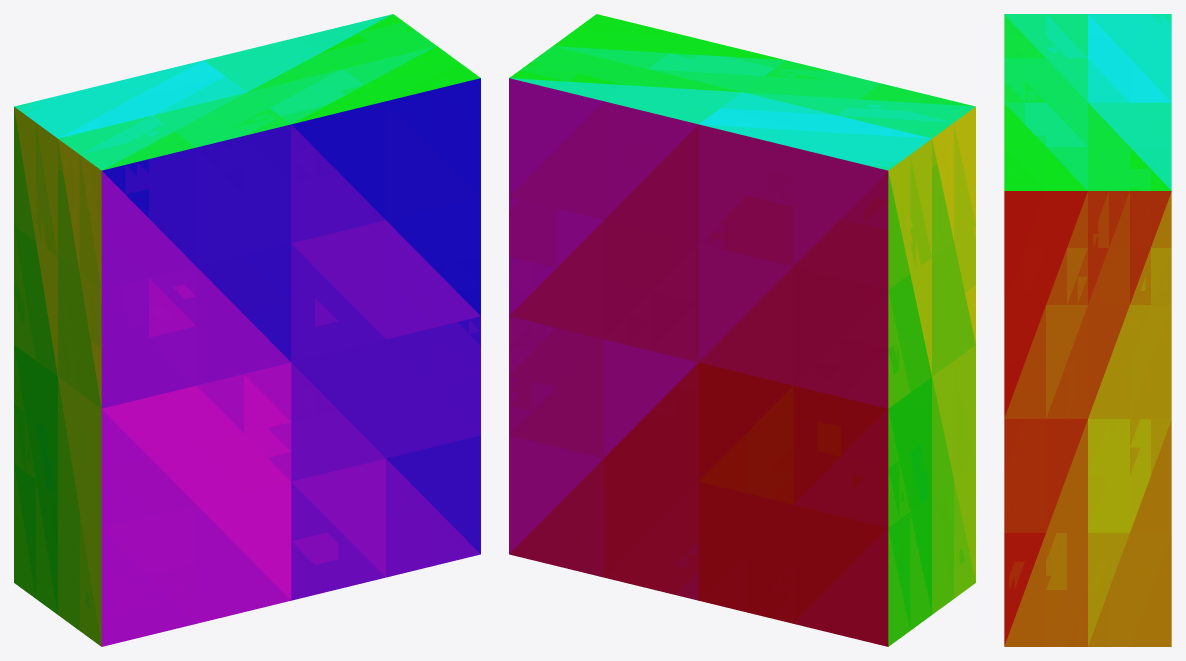
File: cuboid.obj
3 views of the same model, side by side, from view 1: azimuth 30°, elevation 25°; view 2: azimuth 150°, elevation 25°; view 3: azimuth 270°, elevation 25° (orthographic). The views are drawn at different scales.
Bounding box in the file's own units: 10 × 12 × 4.
1 material, 1 textured.
